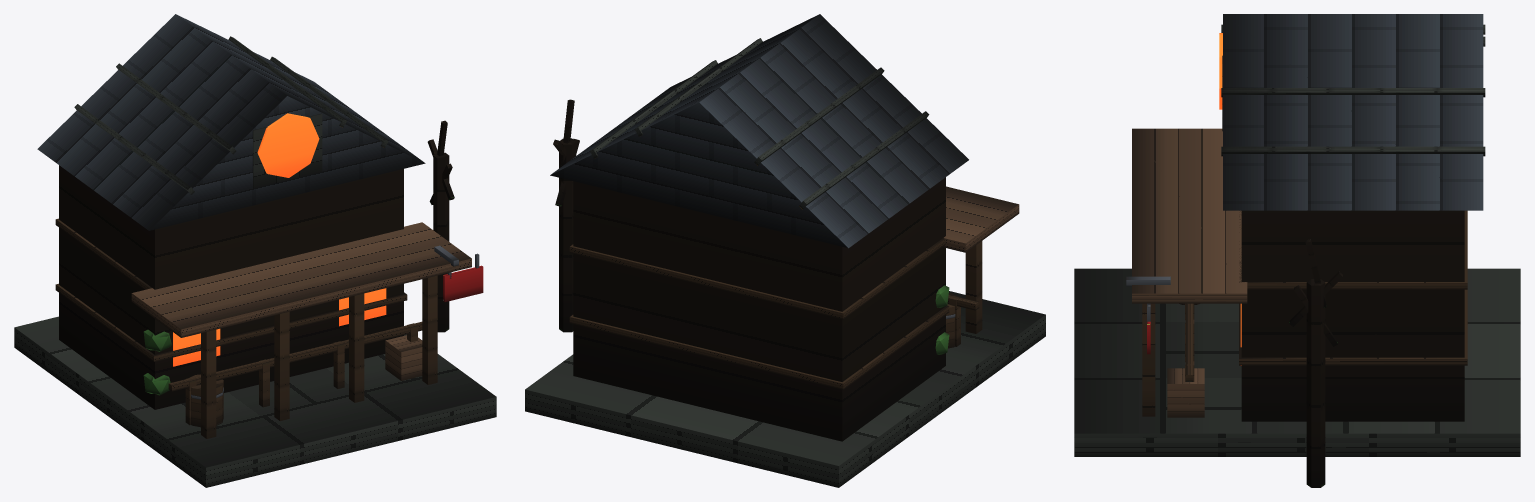
File: shopfront.gltf
3 renders of one model, left to right at view 1: azimuth 30°, elevation 25°; view 2: azimuth 150°, elevation 25°; view 3: azimuth 270°, elevation 25°, orthographic. The views are drawn at different scales.
Parts seen in each view (by area): view 1: shopfront; view 2: shopfront; view 3: shopfront.
Boxes of the visible parts, x1,y1,x2,y2 form: shopfront: (14, 14, 496, 487); shopfront: (525, 14, 1045, 487); shopfront: (1074, 14, 1520, 487).
Bounding box in the file's own units: 2.49 × 2.14 × 2.4.
1 material, 1 textured.
